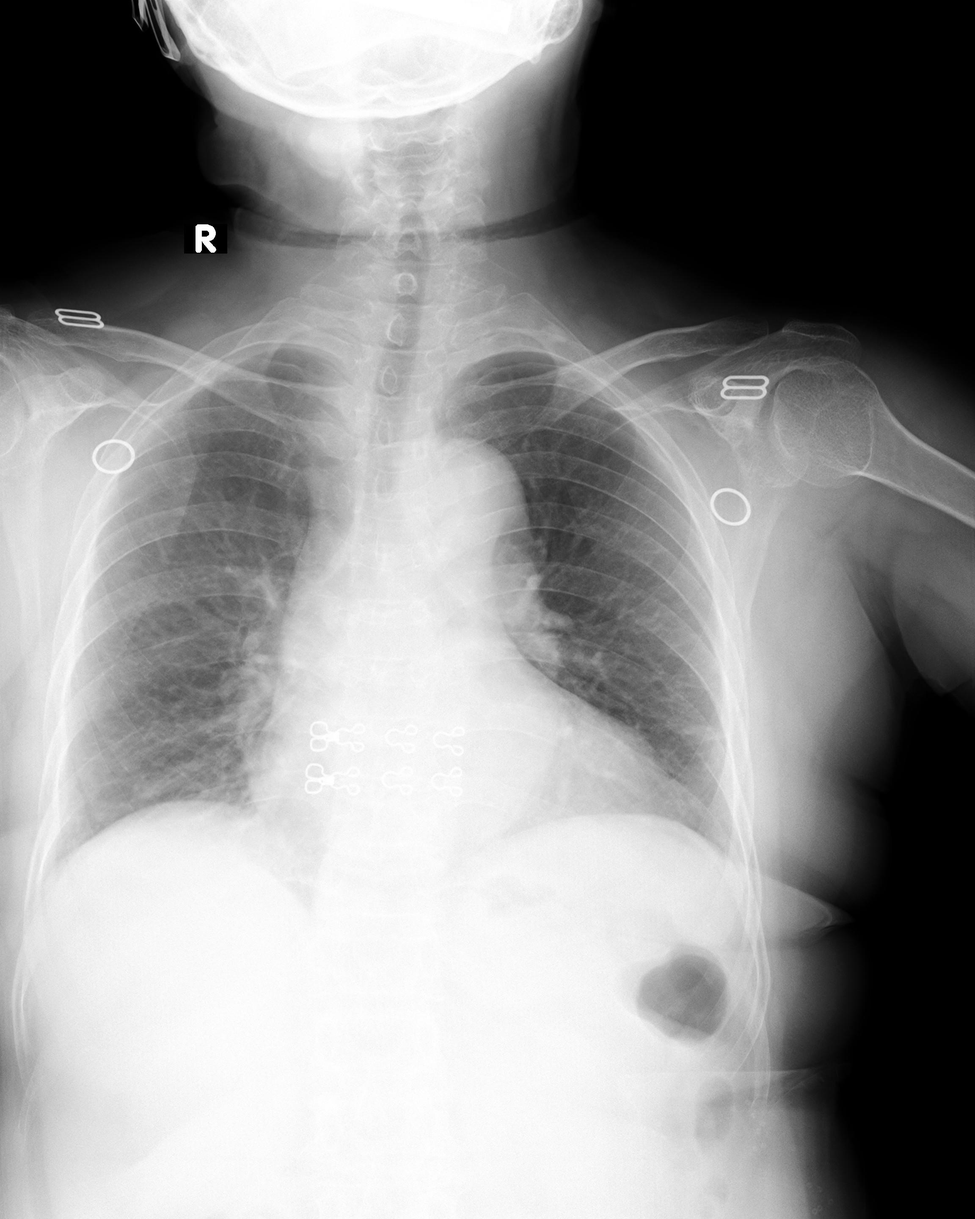Aortic enlargement: (407, 439, 526, 565)
Cardiomegaly: (234, 735, 660, 809)
